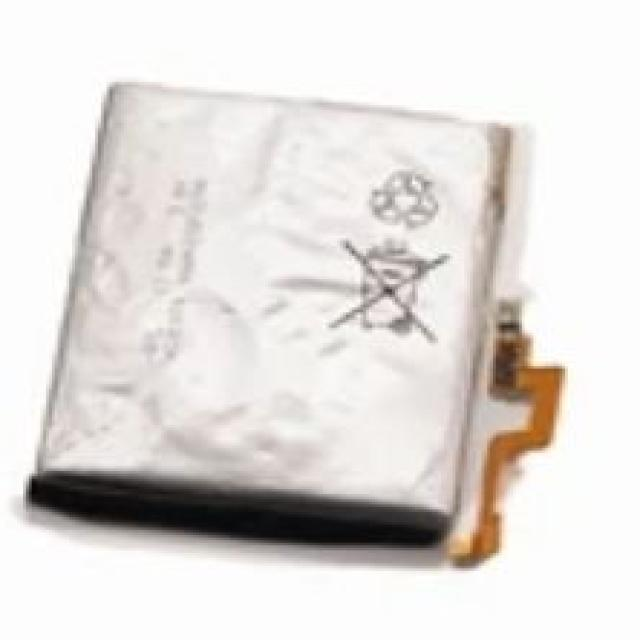electronic: (14, 52, 640, 640)
